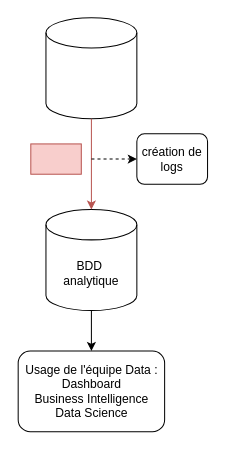
Some shapes in this 225 by 449 pixel diagram are drawn without their labels. The centre of each missing label's shape, as x and y in pixels:
BDD de production: point (91, 68)
ETL: point (55, 158)
